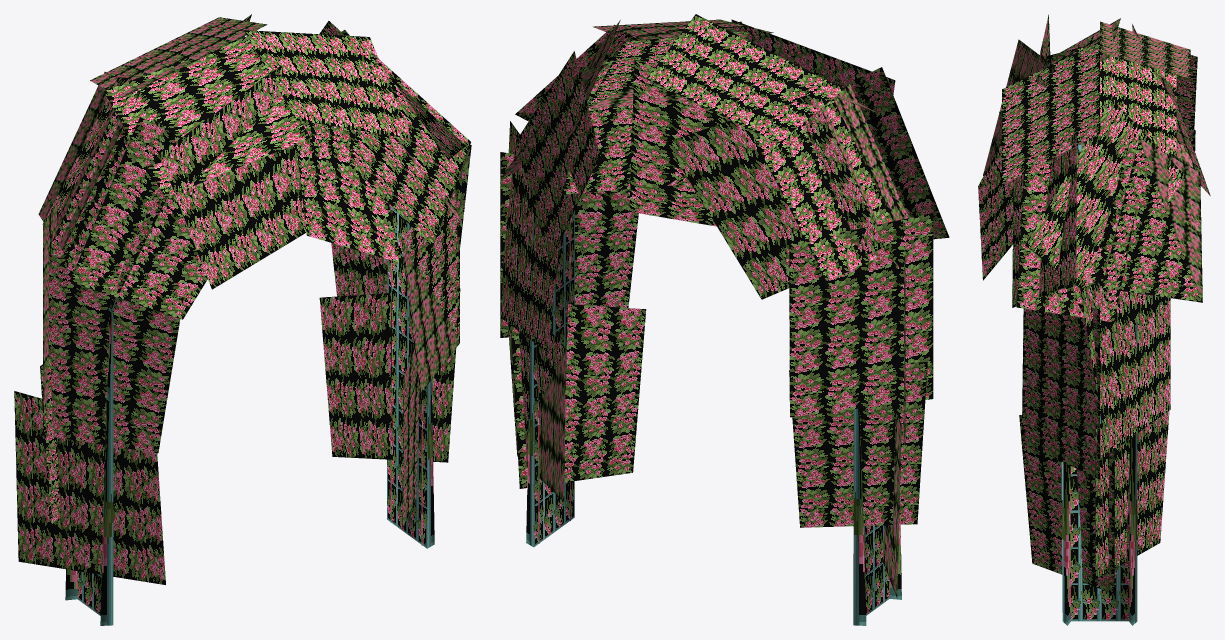
Rendered from 3410IMIG20_09.gltf.
3 views of the same model, side by side, from view 1: azimuth 30°, elevation 25°; view 2: azimuth 150°, elevation 25°; view 3: azimuth 270°, elevation 25° (orthographic). The views are drawn at different scales.
Visible parts, largest first — view 1: 3410IMIG20_09; view 2: 3410IMIG20_09; view 3: 3410IMIG20_09.
Part boxes in pixels (x1=…): 3410IMIG20_09: x1=14, y1=14, x2=471, y2=625; 3410IMIG20_09: x1=500, y1=14, x2=949, y2=625; 3410IMIG20_09: x1=978, y1=14, x2=1210, y2=625.
Size of the model in its own units: 1.9 by 2.34 by 0.9766.
Materials: 3 (3 with a texture image).
